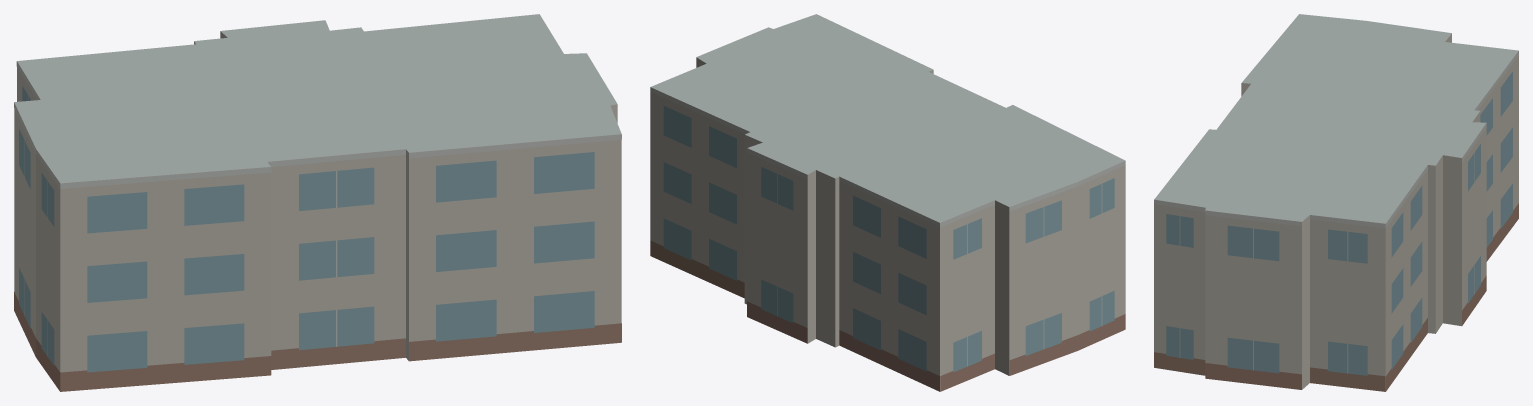
File: survey-upis-32466257.glb
3 renders of one model, left to right at view 1: azimuth 30°, elevation 25°; view 2: azimuth 150°, elevation 25°; view 3: azimuth 270°, elevation 25°, orthographic. The views are drawn at different scales.
Parts seen in each view (by area): view 1: survey-upis-32466257.tmp; view 2: survey-upis-32466257.tmp; view 3: survey-upis-32466257.tmp.
Boxes of the visible parts, x1=… form: survey-upis-32466257.tmp: x1=14, y1=14, x2=621, y2=391; survey-upis-32466257.tmp: x1=650, y1=14, x2=1125, y2=391; survey-upis-32466257.tmp: x1=1154, y1=14, x2=1518, y2=391.
Size of the model in its own units: 24.49 by 9.15 by 18.
